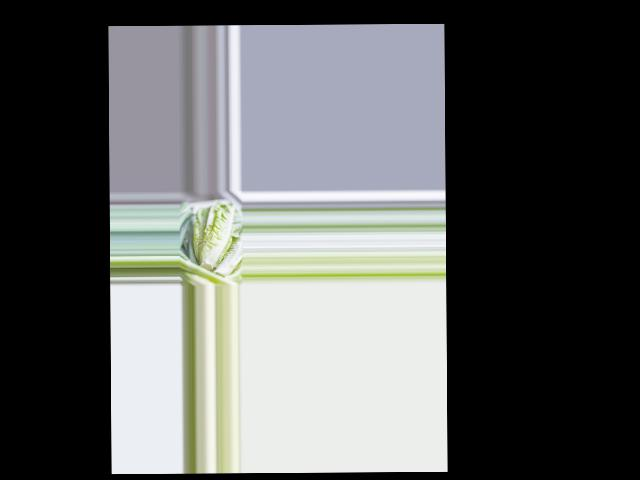lettuce: (192, 201, 236, 270)
